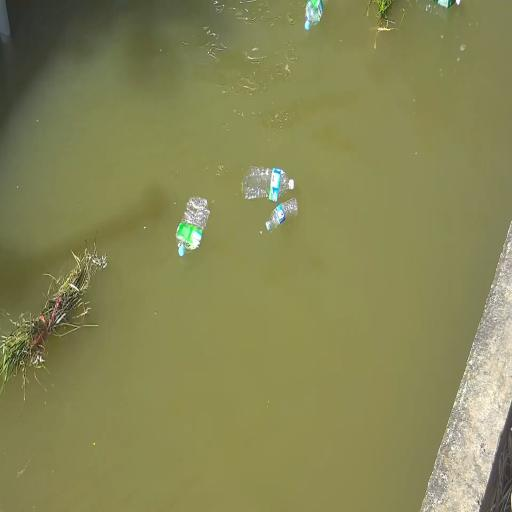plastic: (236, 159, 294, 203), (175, 190, 208, 260), (295, 0, 331, 38), (262, 197, 300, 232), (417, 0, 461, 11)
twig: (0, 248, 100, 384), (361, 0, 397, 41)
